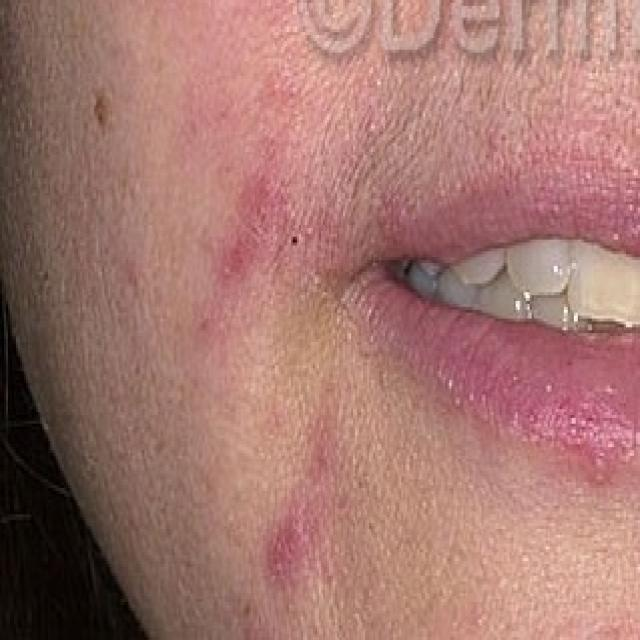Rosacea: (211, 166, 313, 304)
